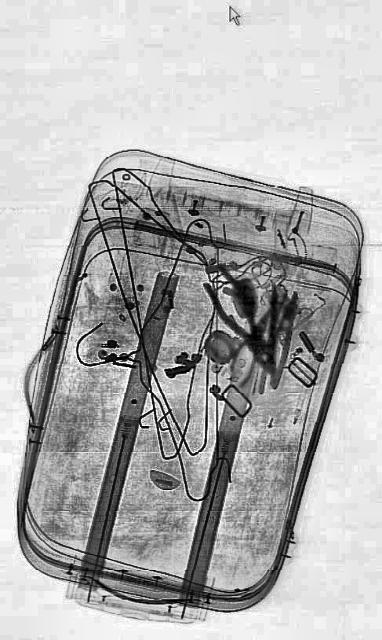Pliers: (200, 254, 284, 386), (255, 284, 303, 400), (224, 298, 278, 392)
